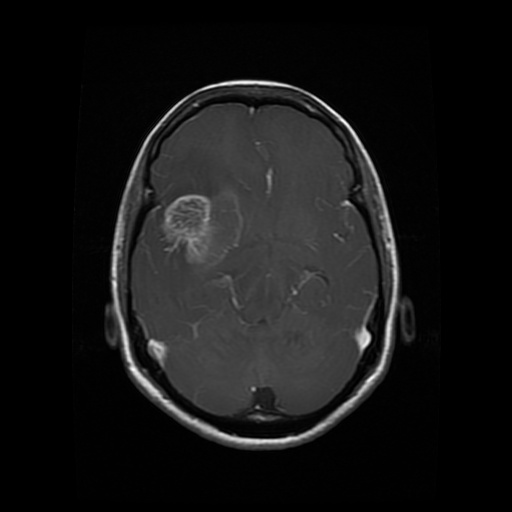glioma: (160, 187, 244, 268)
